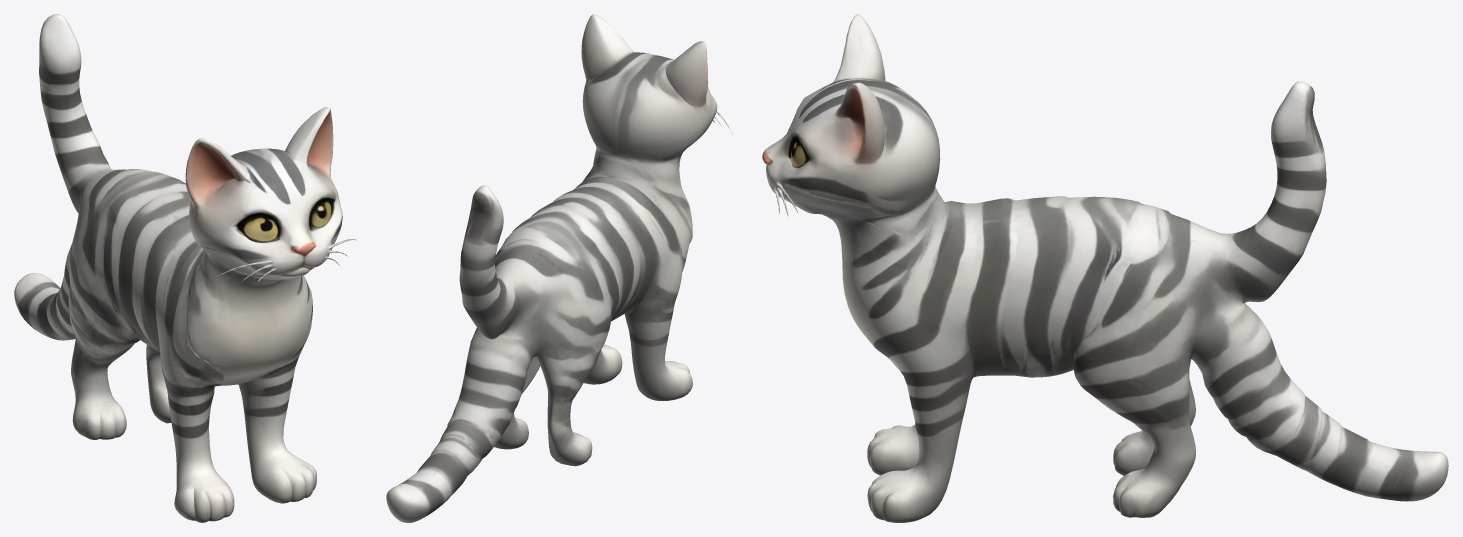
The model's file is cat.glb.
The picture shows the model from 3 angles, left to right: view 1: azimuth 30°, elevation 25°; view 2: azimuth 150°, elevation 25°; view 3: azimuth 270°, elevation 25°; orthographic projection. The views are drawn at different scales.
Visible parts, largest first — view 1: model; view 2: model; view 3: model.
Part boxes in pixels (box(x1,y1,x2,y2)): model: box(14, 14, 356, 522); model: box(386, 14, 732, 522); model: box(762, 14, 1448, 522).
Size of the model in its own units: 0.528 by 1.36 by 1.9.
Materials: 1 (1 with a texture image).
